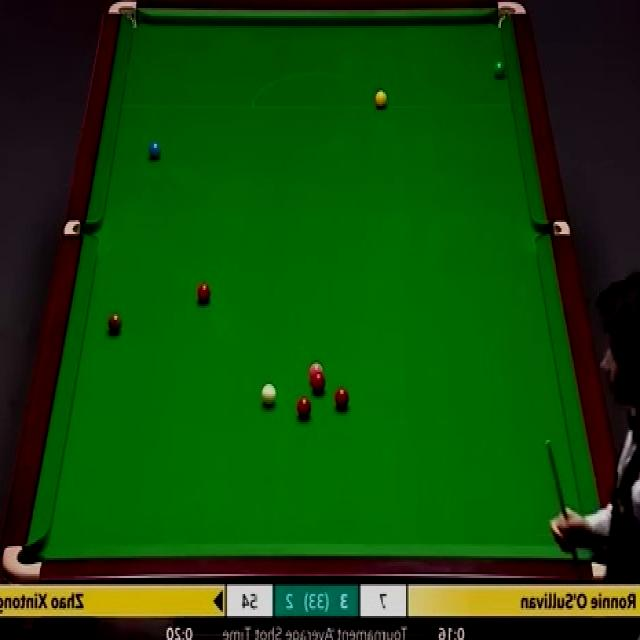pocket: (2, 544, 42, 583), (107, 2, 138, 32), (496, 1, 528, 30), (536, 221, 570, 240), (64, 222, 98, 240), (590, 542, 606, 580)
